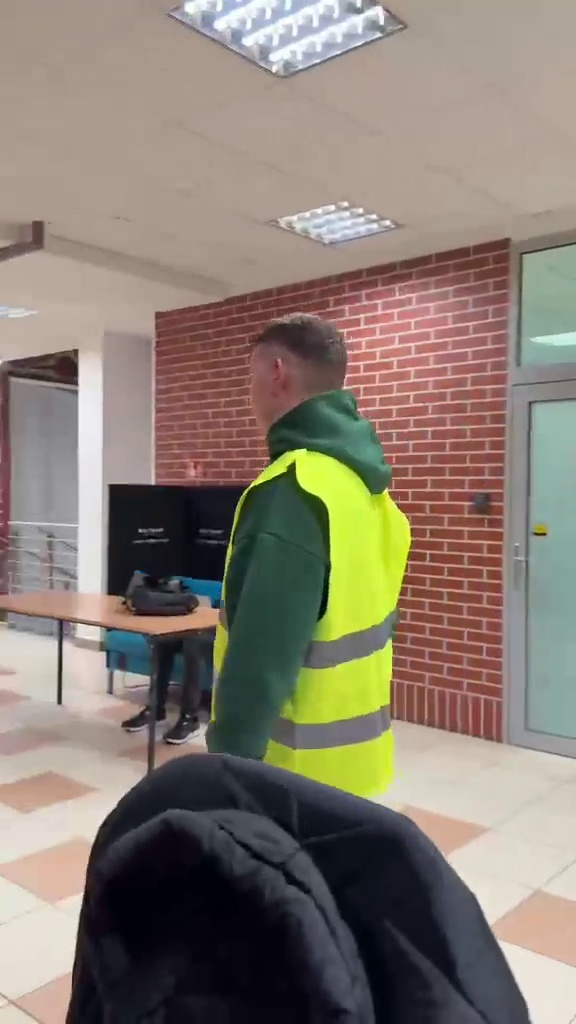vest: (220, 317, 405, 809)
